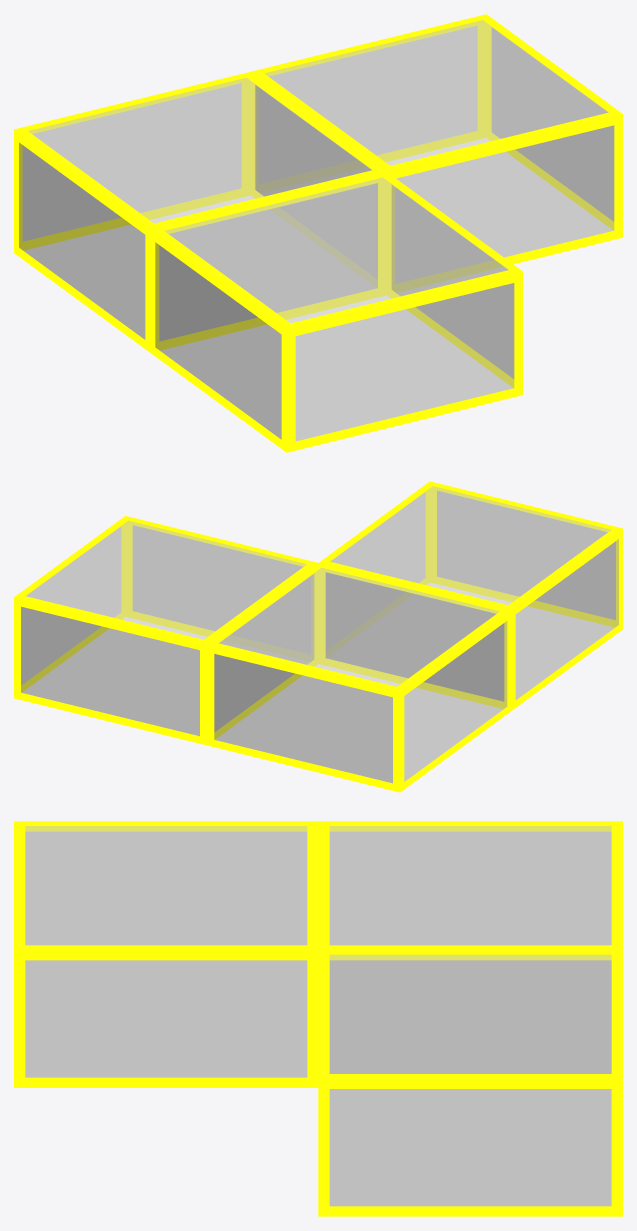
Rendered from (4)H Plat.fbx.
The picture shows the model from 3 angles, top to bottom: view 1: azimuth 30°, elevation 25°; view 2: azimuth 150°, elevation 25°; view 3: azimuth 270°, elevation 25°; orthographic projection. The views are drawn at different scales.
Parts seen in each view (by area): view 1: Platform.010, Platform.011, Platform.012; view 2: Platform.011, Platform.010, Platform.012; view 3: Platform.010, Platform.012, Platform.011.
Boxes of the visible parts, <box> form: Platform.010: <box>150,171,522,452</box>; Platform.011: <box>14,72,386,352</box>; Platform.012: <box>250,14,622,292</box>; Platform.011: <box>207,563,511,792</box>; Platform.010: <box>318,481,622,710</box>; Platform.012: <box>14,516,318,745</box>; Platform.010: <box>14,821,318,1087</box>; Platform.012: <box>318,950,622,1216</box>; Platform.011: <box>318,821,622,1073</box>.
Size of the model in its own units: 400 by 100 by 400.
